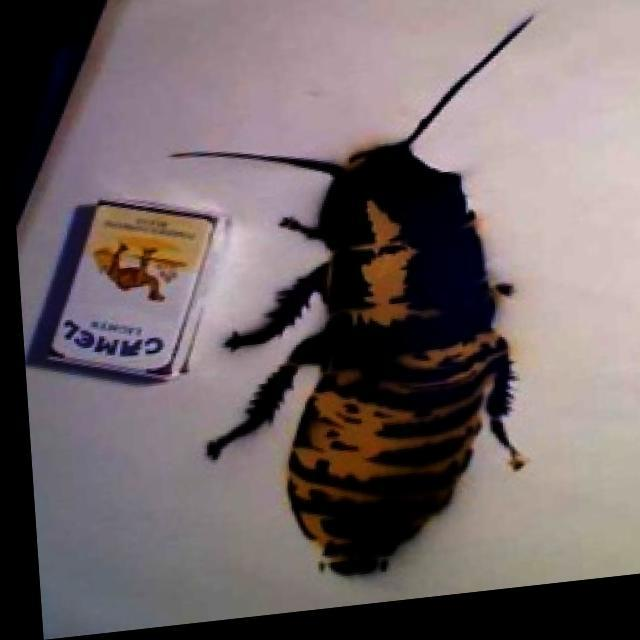cockroach: (165, 12, 546, 580)
